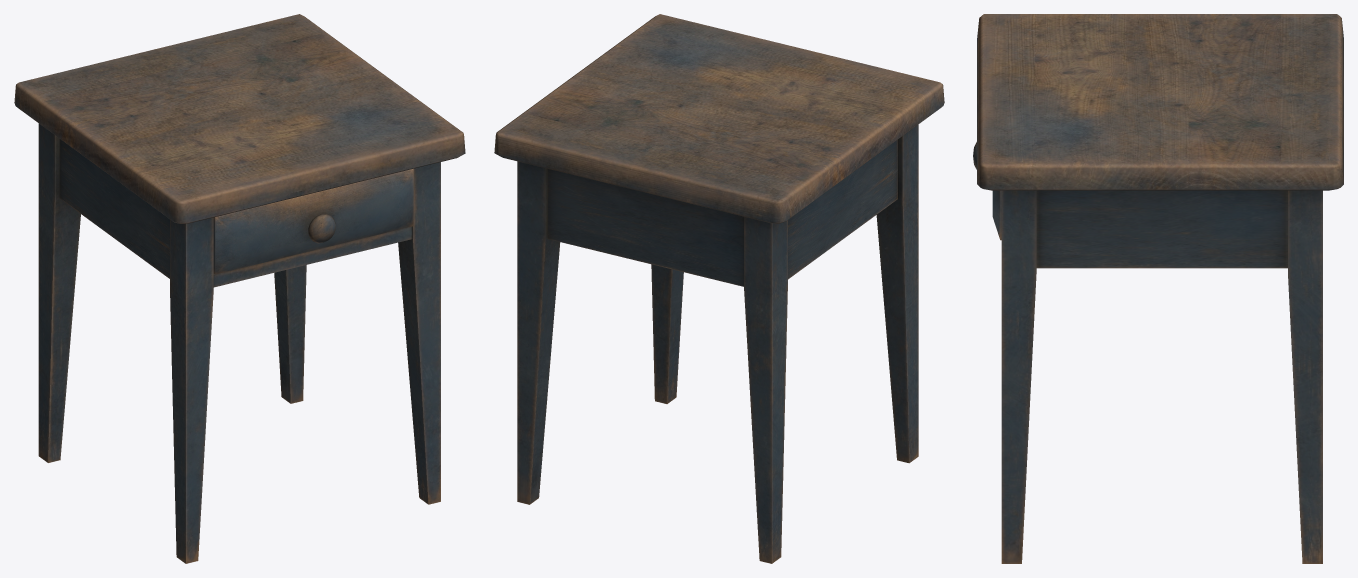
File: painted_wooden_nightstand_1k.gltf
3 views of the same model, side by side, from view 1: azimuth 30°, elevation 25°; view 2: azimuth 150°, elevation 25°; view 3: azimuth 270°, elevation 25° (orthographic). The views are drawn at different scales.
Visible parts, largest first — view 1: painted_wooden_nightstand, painted_wooden_nightstand_drawer; view 2: painted_wooden_nightstand; view 3: painted_wooden_nightstand, painted_wooden_nightstand_drawer.
Part boxes in pixels (bbox=[...]): painted_wooden_nightstand: bbox=[14, 14, 465, 563]; painted_wooden_nightstand_drawer: bbox=[213, 168, 413, 274]; painted_wooden_nightstand: bbox=[494, 14, 944, 563]; painted_wooden_nightstand: bbox=[977, 14, 1343, 563]; painted_wooden_nightstand_drawer: bbox=[973, 142, 1001, 240].
Size of the model in its own units: 0.5046 by 0.6155 by 0.5087.
1 material, 1 textured.
